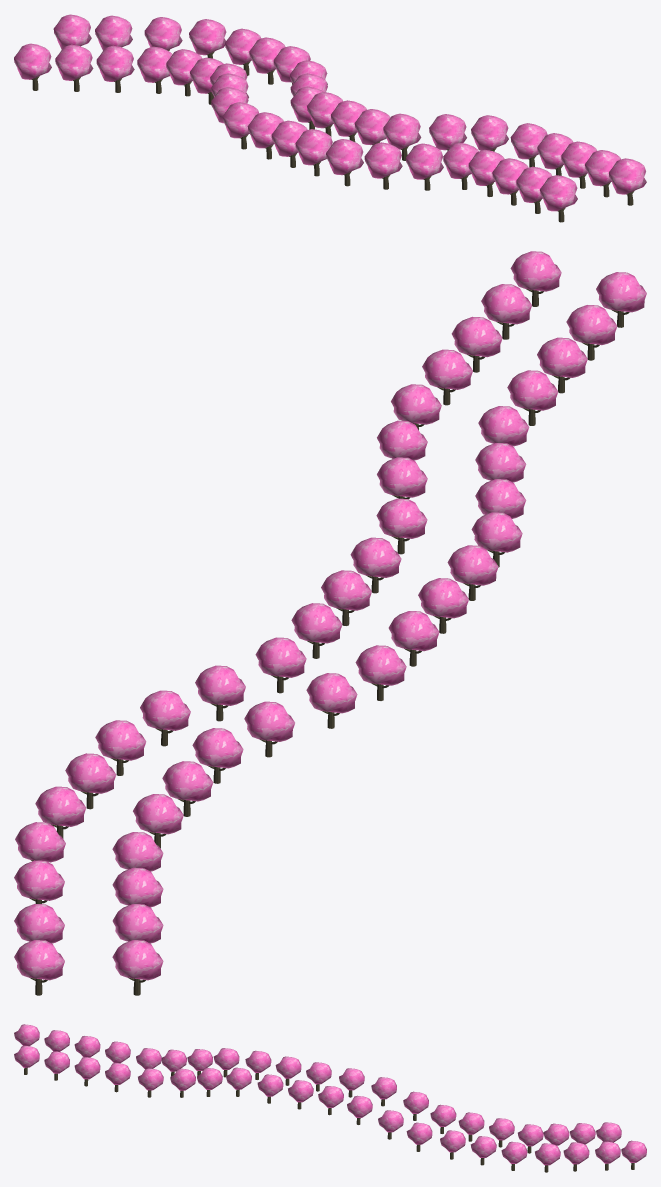
The model's file is CourseSpring_Box_cherry.fbx.
3 views of the same model, one above another, from view 1: azimuth 30°, elevation 25°; view 2: azimuth 150°, elevation 25°; view 3: azimuth 270°, elevation 25° (orthographic). The views are drawn at different scales.
Parts seen in each view (by area): view 1: pCylinder22, pCylinder29, pCylinder42, pCylinder43, pCylinder27, pCylinder28, pCylinder41, pCylinder40, pCylinder50, pCylinder30, pCylinder60, pCylinder48 (+30 smaller); view 2: pCylinder46, pCylinder54, pCylinder34, pCylinder50, pCylinder57, pCylinder53, pCylinder58, pCylinder37, pCylinder36, pCylinder35, pCylinder42, pCylinder31 (+30 smaller); view 3: pCylinder39, pCylinder52, pCylinder58, pCylinder38, pCylinder45, pCylinder60, pCylinder29, pCylinder37, pCylinder33, pCylinder47, pCylinder55, pCylinder56 (+30 smaller).
Part boxes in pixels (x1,y1,x2,y2): pCylinder22: (540, 175, 577, 222); pCylinder29: (326, 139, 363, 186); pCylinder42: (14, 43, 51, 90); pCylinder43: (609, 158, 646, 205); pCylinder27: (406, 143, 443, 190); pCylinder28: (364, 142, 402, 189); pCylinder41: (55, 44, 93, 91); pCylinder40: (96, 45, 134, 92); pCylinder50: (383, 113, 421, 160); pCylinder30: (295, 129, 332, 176); pCylinder60: (189, 19, 226, 58); pCylinder48: (471, 115, 508, 151); pCylinder46: (422, 349, 472, 405); pCylinder54: (255, 637, 306, 693); pCylinder34: (306, 673, 357, 728); pCylinder50: (376, 498, 427, 554); pCylinder57: (95, 720, 146, 775); pCylinder53: (291, 603, 342, 658); pCylinder58: (65, 753, 116, 809); pCylinder37: (162, 761, 213, 816); pCylinder36: (192, 728, 243, 783); pCylinder35: (244, 701, 294, 757); pCylinder42: (112, 940, 163, 995); pCylinder31: (418, 578, 468, 633); pCylinder39: (517, 1124, 543, 1153); pCylinder52: (288, 1080, 313, 1109); pCylinder58: (470, 1136, 496, 1165); pCylinder38: (489, 1118, 514, 1147); pCylinder45: (74, 1057, 100, 1086); pCylinder60: (535, 1143, 560, 1172); pCylinder29: (213, 1048, 239, 1077); pCylinder37: (458, 1112, 484, 1141); pCylinder33: (339, 1068, 364, 1097); pCylinder47: (138, 1068, 163, 1097); pCylinder55: (378, 1110, 403, 1139); pCylinder56: (406, 1122, 432, 1151).
Size of the model in its own units: 98.7 by 128 by 502.
Materials: 1 (1 with a texture image).
